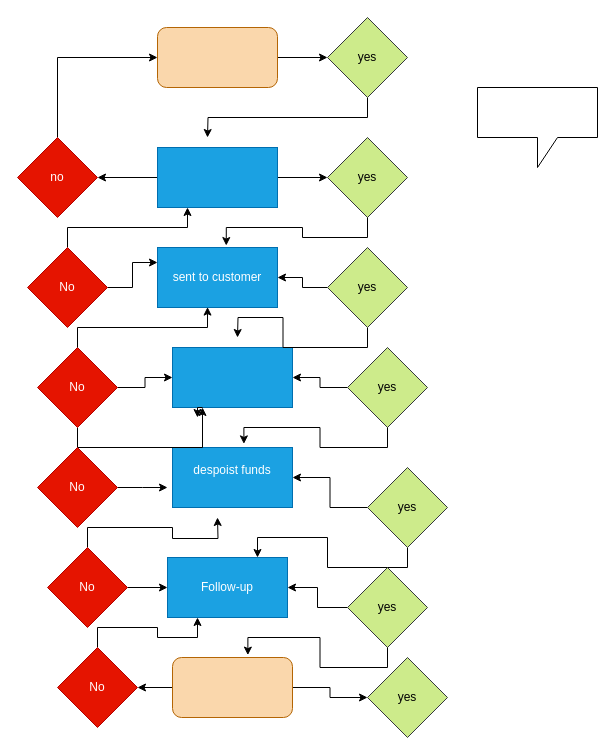
Image size: 615x755. Some labels were removed from this diagram. Here are the shapes that lost their labels. From the top down, the box of each, then its label:
(156, 26, 278, 88): Begin Inovice Process
(476, 86, 598, 168): Why? We need receivable visibilty avg day 10
(156, 146, 278, 208): create inovice
(172, 346, 292, 408): reconcile payment
(172, 656, 292, 718): cash deposited/process closed
